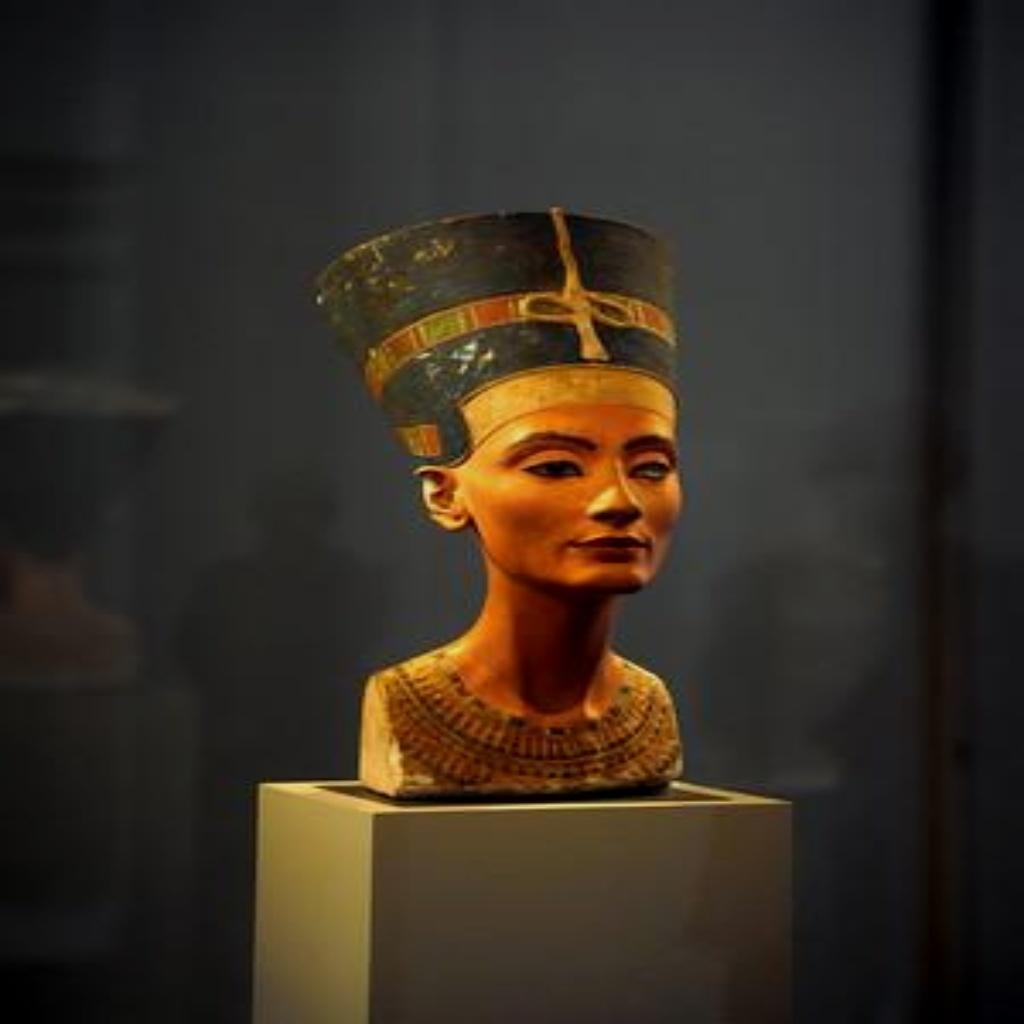Nefertiti: (311, 202, 693, 798)
